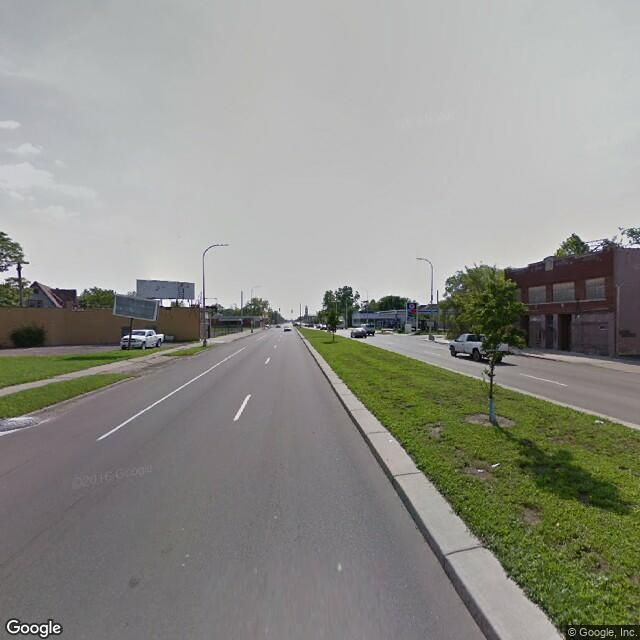litter: (593, 416, 605, 426), (488, 462, 503, 469), (476, 467, 485, 475)
